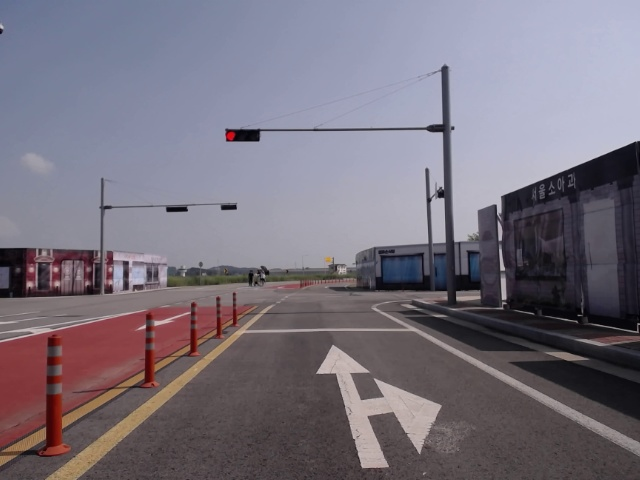red_3: (224, 129, 261, 143)
